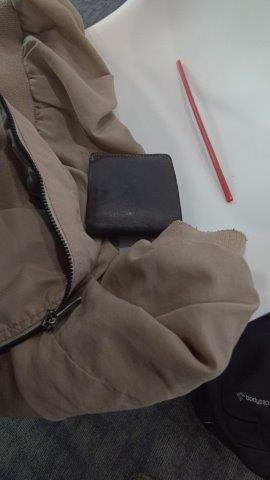sedotan: (177, 61, 232, 202)
